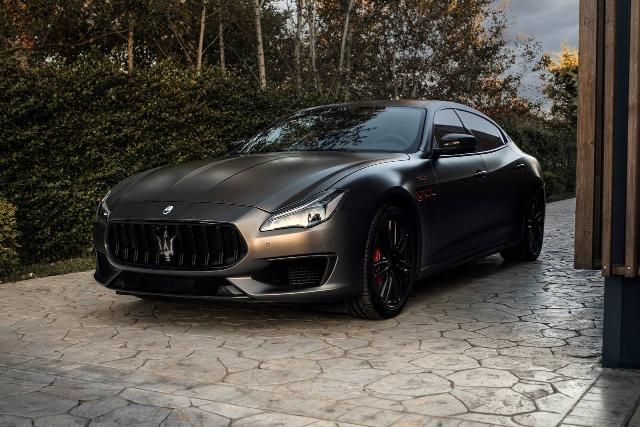maserati: (75, 99, 547, 320)
